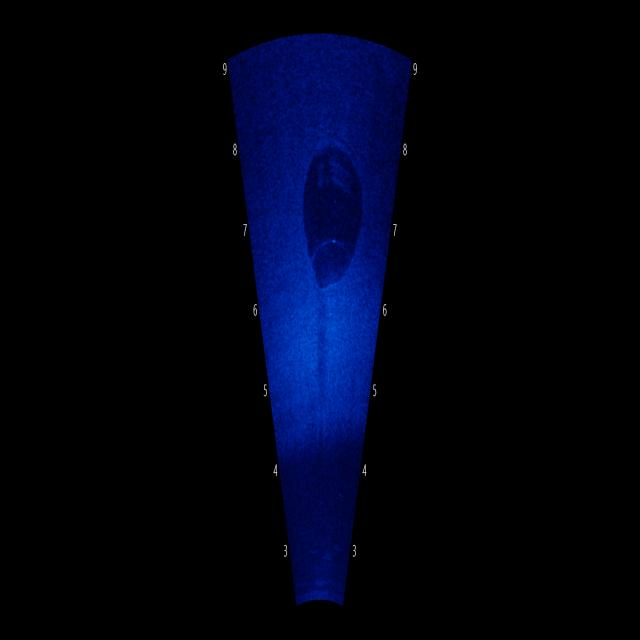circle: (292, 129, 368, 303)
